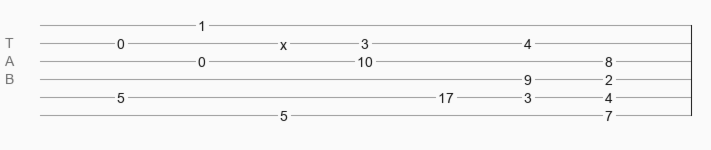0: (117, 36, 125, 46), (198, 54, 206, 64)
1: (198, 18, 206, 28)
10: (357, 54, 373, 64)
17: (438, 90, 454, 100)
2: (605, 72, 613, 82)
3: (361, 36, 369, 46), (524, 90, 532, 100)
4: (524, 36, 532, 46), (605, 90, 613, 100)
5: (117, 90, 125, 100), (280, 108, 288, 118)
7: (605, 108, 613, 118)
8: (605, 54, 613, 64)
9: (524, 72, 532, 82)
x: (280, 37, 287, 45)
